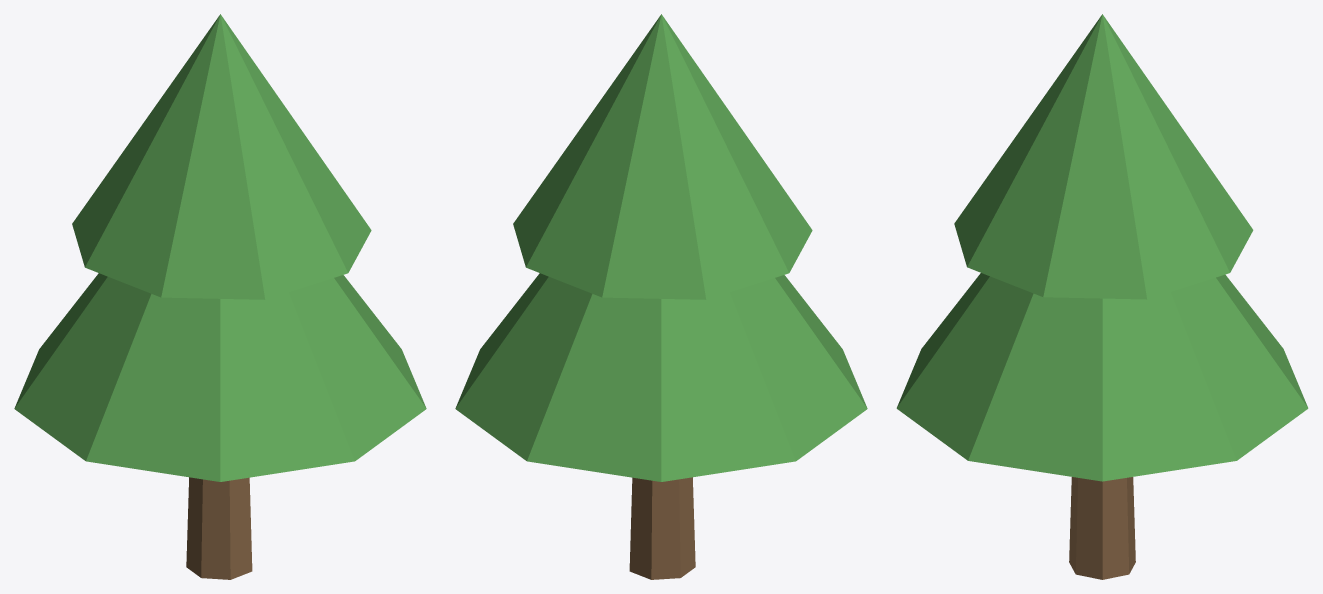
File: tree.glb
3 renders of one model, left to right at view 1: azimuth 30°, elevation 25°; view 2: azimuth 150°, elevation 25°; view 3: azimuth 270°, elevation 25°, orthographic.
Parts seen in each view (by area): view 1: tree; view 2: tree; view 3: tree.
Boxes of the visible parts, box(x1,y1,x2,y2) form: tree: box(14, 14, 426, 579); tree: box(455, 14, 867, 579); tree: box(896, 14, 1308, 579).
Size of the model in its own units: 2.13 by 3.2 by 2.17.
